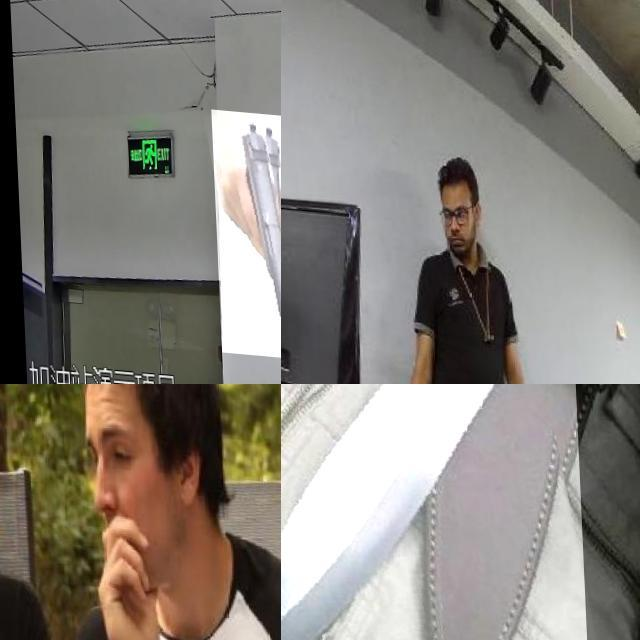-: (281, 384, 585, 640), (0, 569, 43, 640)
gun-knife-thesis - v11 Yolov5 augmented: (208, 105, 281, 354)
